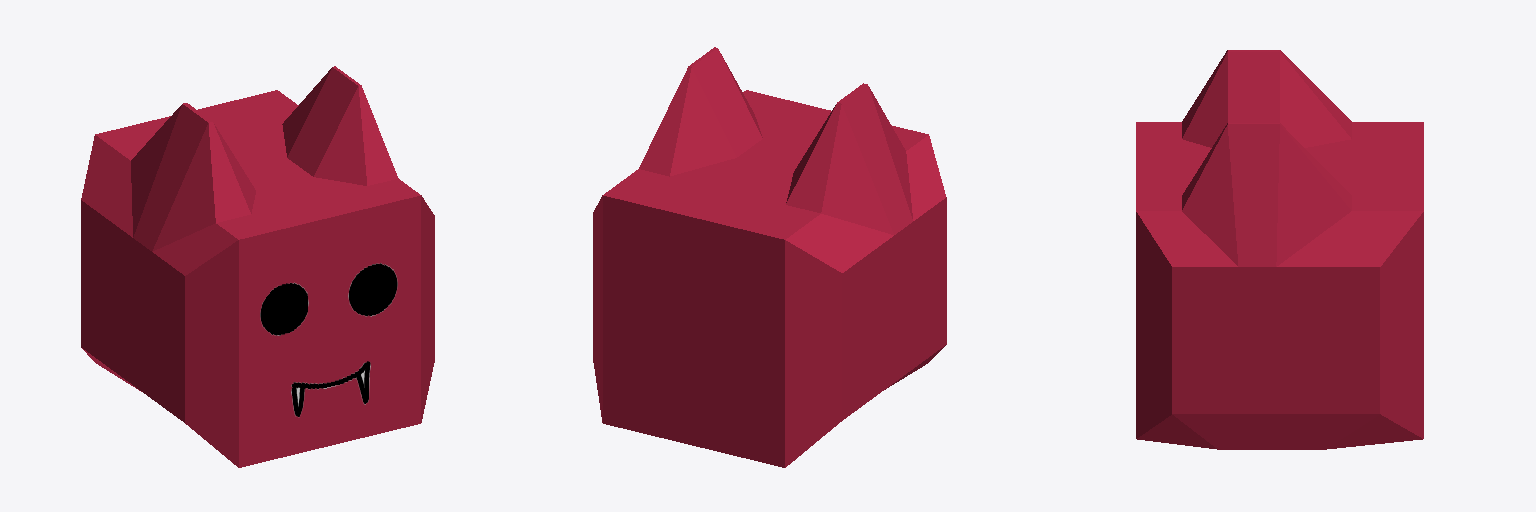
3 renders of one model, left to right at view 1: azimuth 30°, elevation 25°; view 2: azimuth 150°, elevation 25°; view 3: azimuth 270°, elevation 25°, orthographic.
Visible parts, largest first — view 1: 立方体; view 2: 立方体; view 3: 立方体.
Boxes of the visible parts, x1,y1,x2,y2 form: 立方体: [81, 66, 434, 467]; 立方体: [593, 47, 946, 467]; 立方体: [1136, 50, 1423, 449].
Bounding box in the file's own units: 1.6 × 2.09 × 1.6.
1 materials, 1 textured.